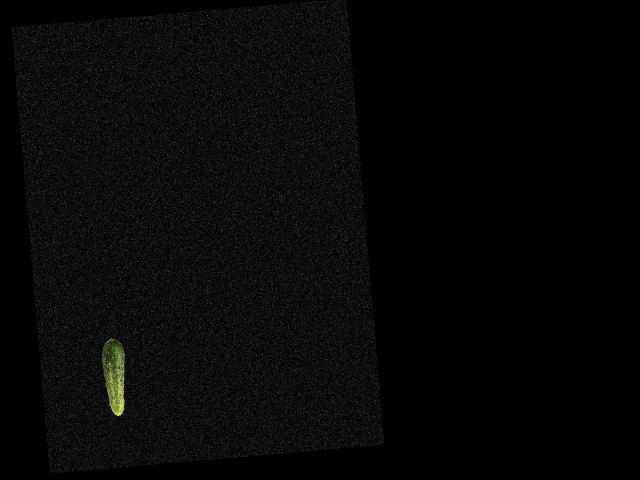cucumber: (99, 337, 129, 416)
